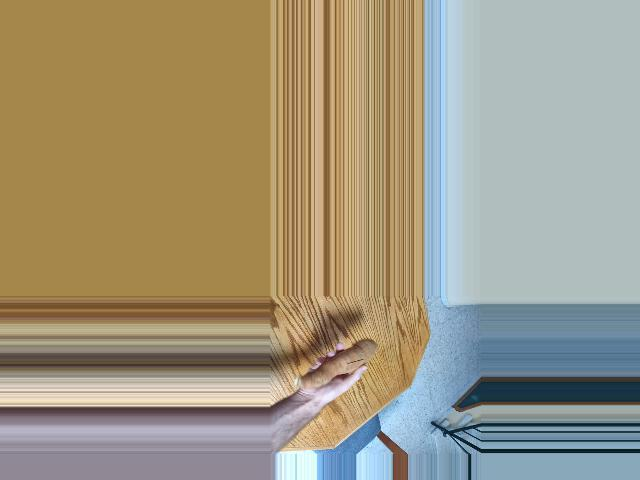sweet_potato: (292, 338, 380, 395)
